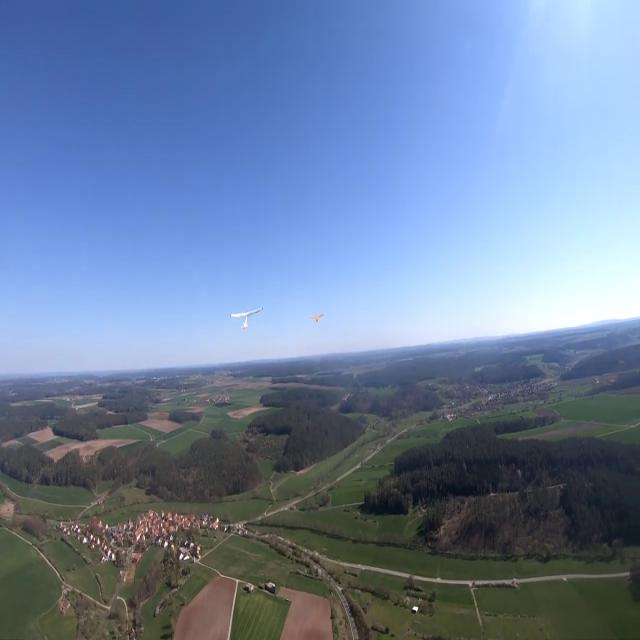iha: (229, 307, 265, 328), (310, 313, 326, 320)
